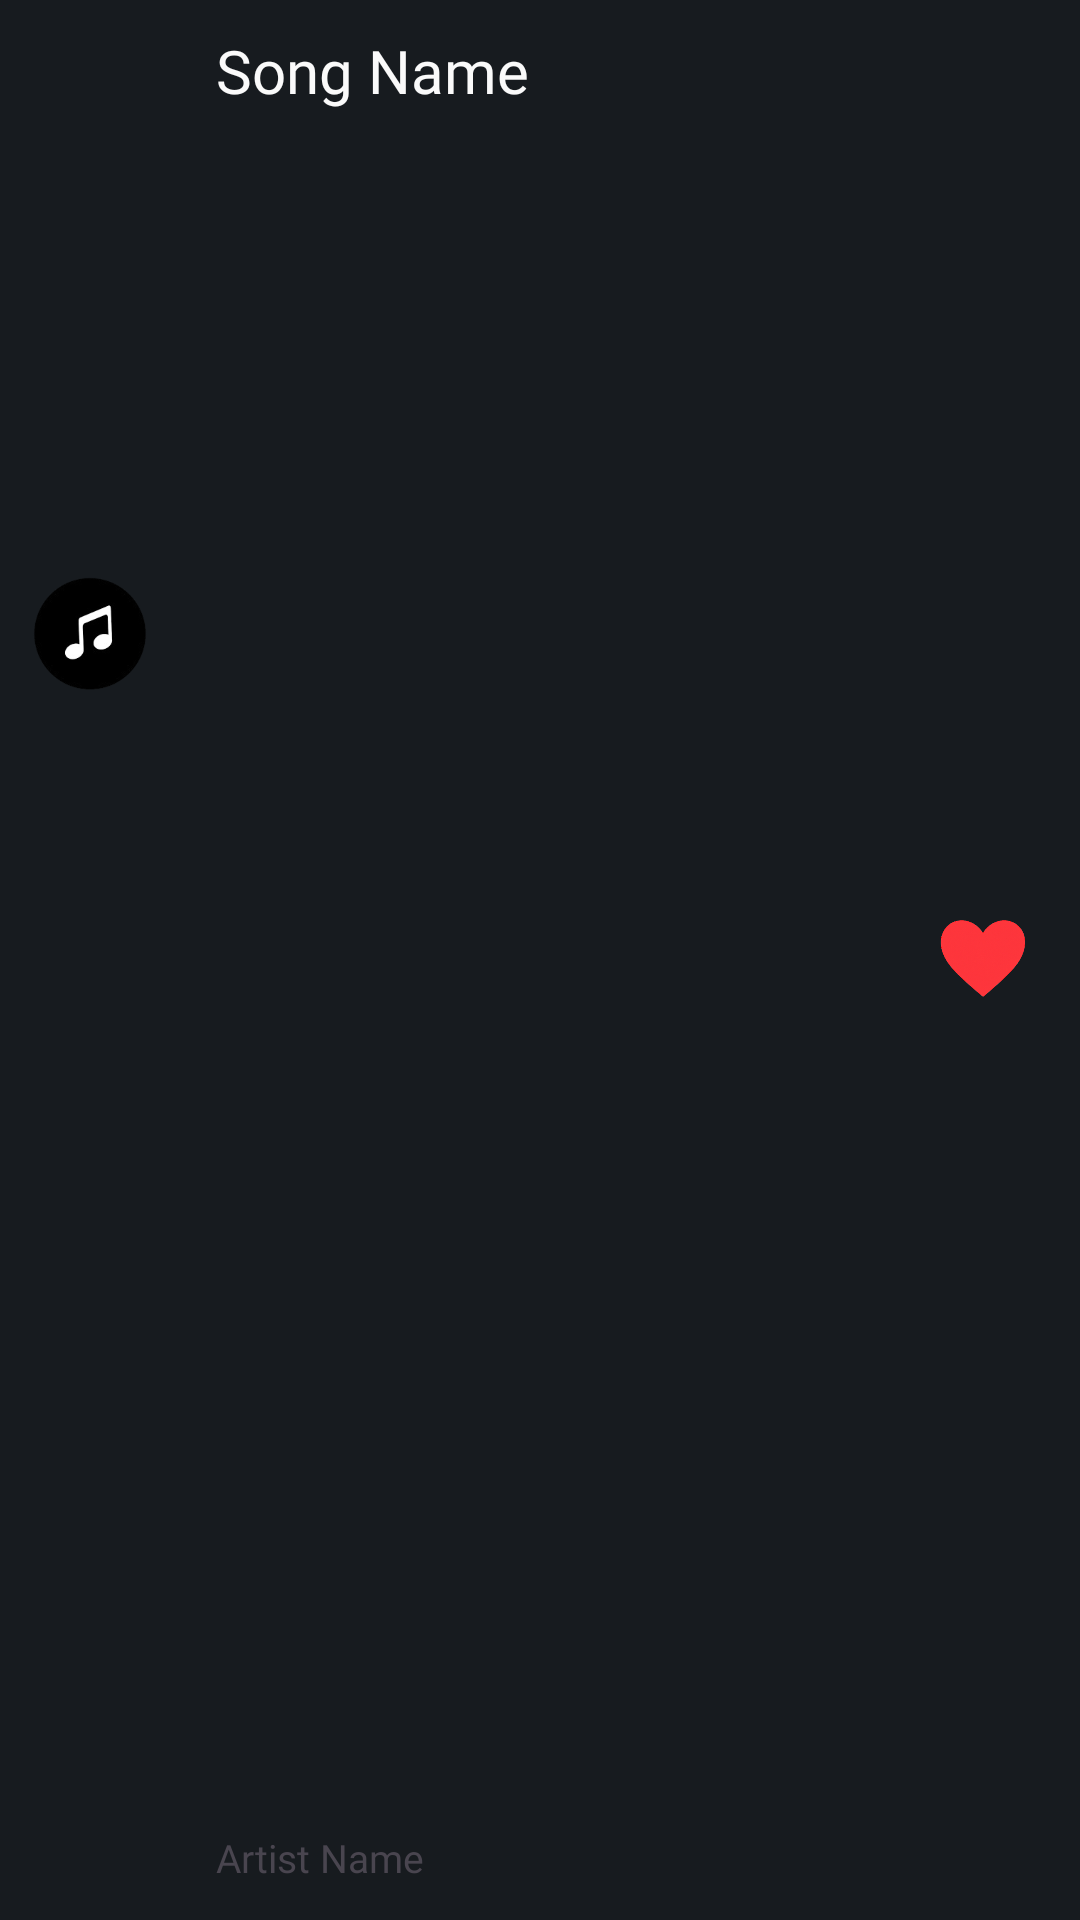

Screen size 1080w x 1920h. Icon name, then its center in pixels as (x=x, y=y):
defaultimg: (x=90, y=634)
